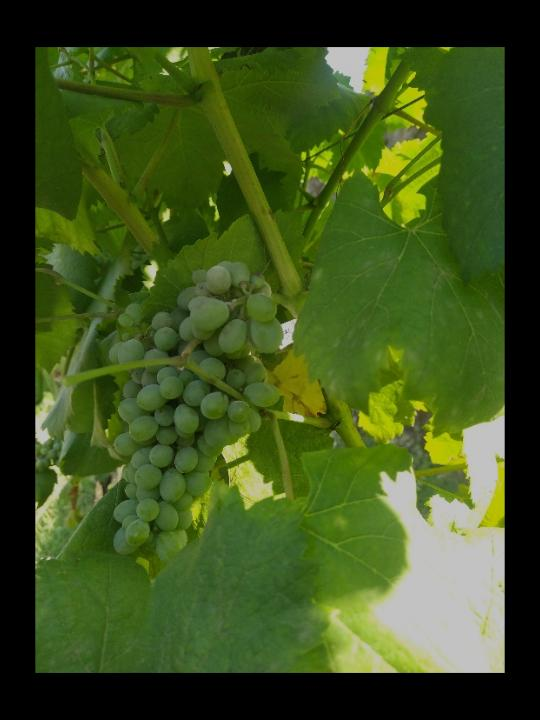grape: (107, 264, 284, 558)
